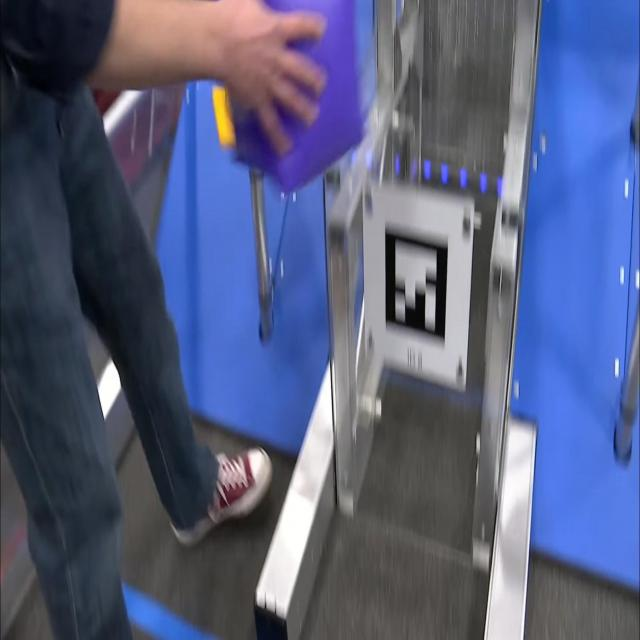frc_cone: (210, 89, 237, 158)
frc_cube: (230, 0, 365, 194)
